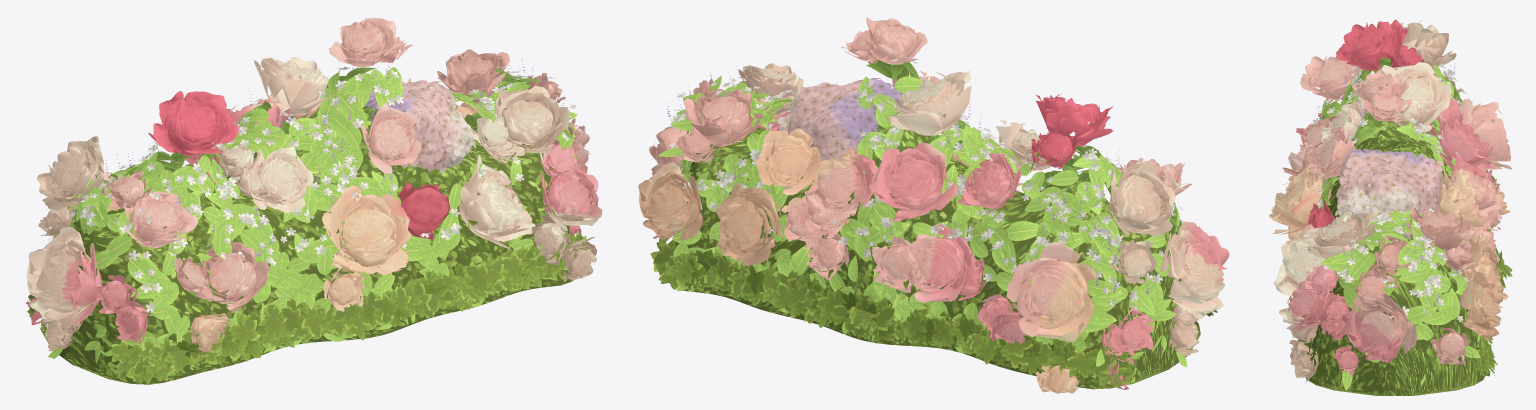
The model's file is FlowerBank_1m_sample_A_1002_v15.glb.
3 views of the same model, side by side, from view 1: azimuth 30°, elevation 25°; view 2: azimuth 150°, elevation 25°; view 3: azimuth 270°, elevation 25° (orthographic). The views are drawn at different scales.
Visible parts, largest first — view 1: FlowerBank_1m; view 2: FlowerBank_1m; view 3: FlowerBank_1m.
Part boxes in pixels (x1,y1,x2,y2): FlowerBank_1m: [26, 18, 602, 384]; FlowerBank_1m: [638, 17, 1229, 393]; FlowerBank_1m: [1269, 19, 1512, 395].
Bounding box in the file's own units: 1.28 × 0.5736 × 0.5706.
Materials: 8 (6 with a texture image).
